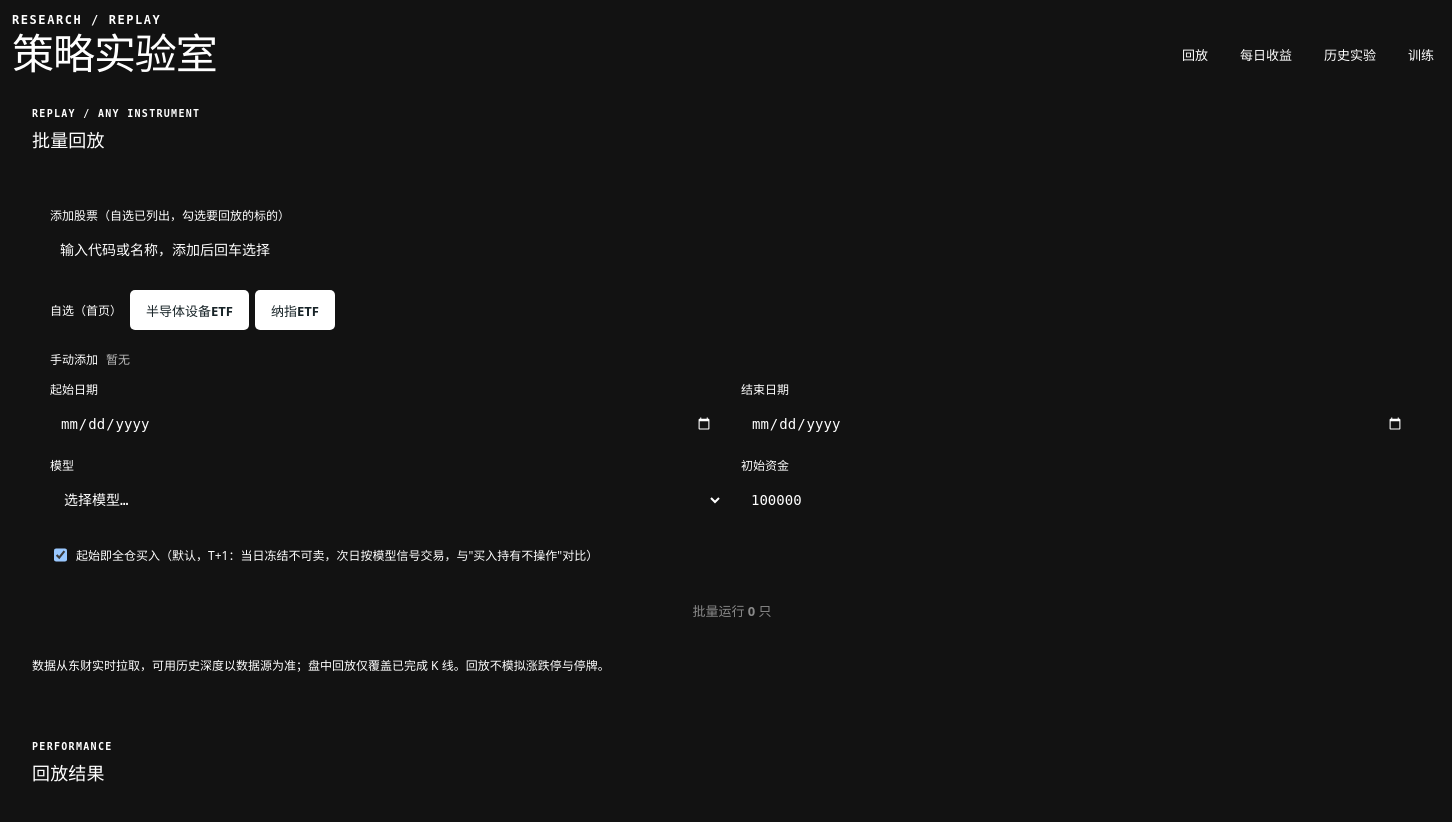
Test case: strategy lab lists watchlist as selectable checkboxes without auto-selecting
Expected: the button "纳指ETF" is shown, x1=255 y1=290 x2=335 y2=330
Expected: the button "批量运行 0 只" is disabled, x1=50 y1=590 x2=1414 y2=630
Step 1. Click the button "半导体设备ETF" → click(190, 310), box x1=130 y1=290 x2=249 y2=330
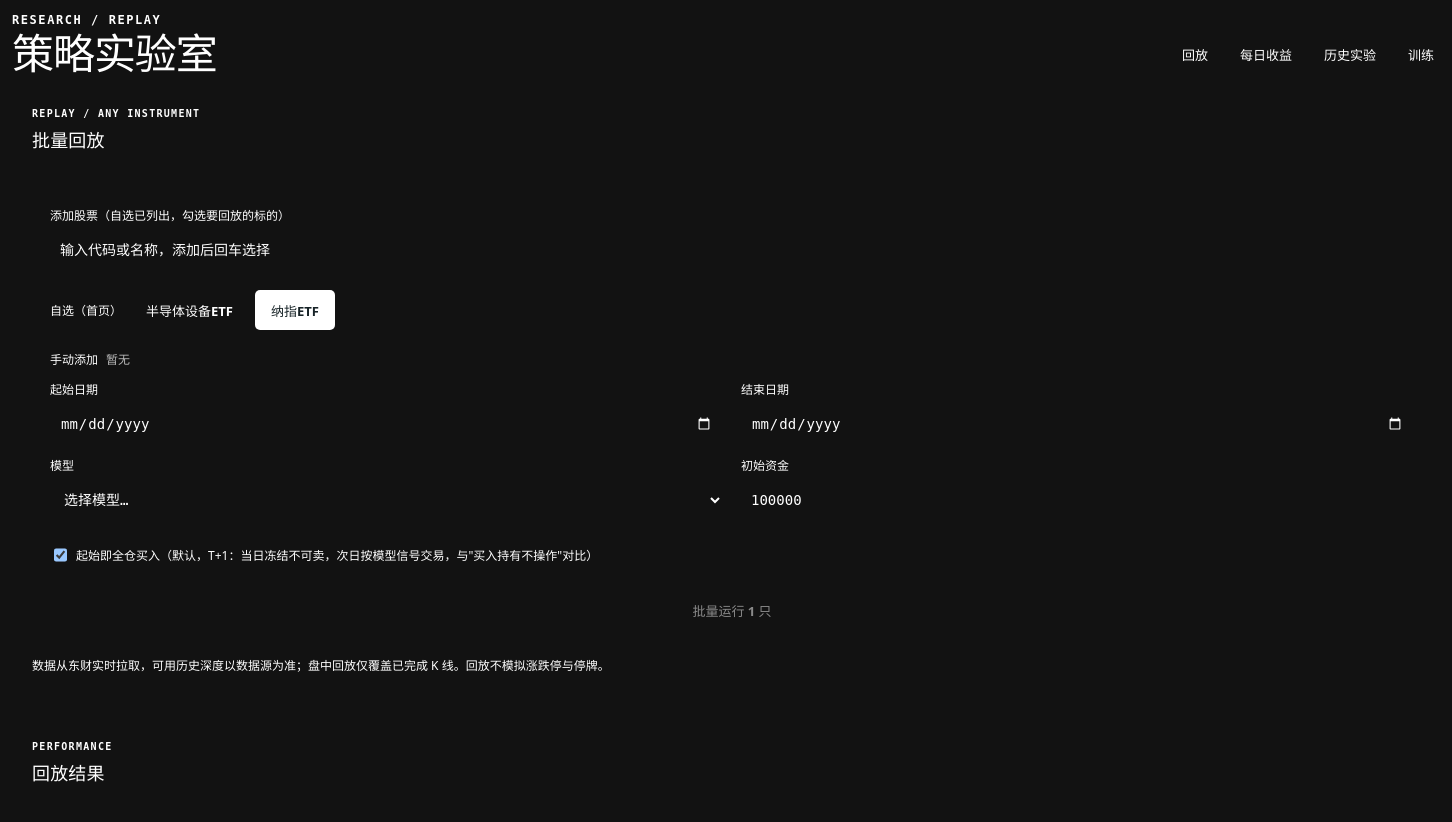
Step 2. Click the button "纳指ETF" → click(295, 310), box x1=255 y1=290 x2=335 y2=330
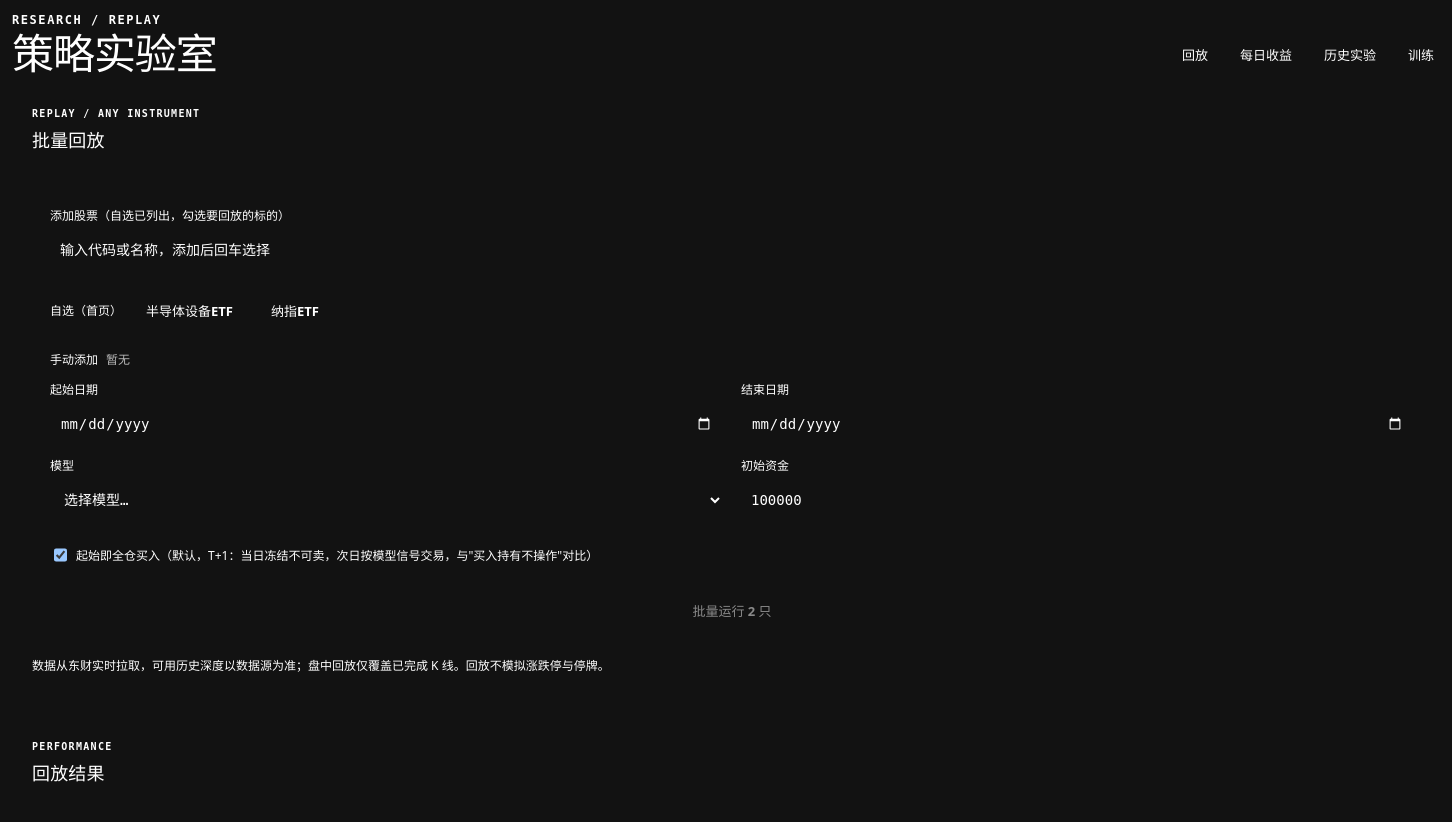
Expected: the button "批量运行 2 只" is shown, x1=50 y1=590 x2=1414 y2=630
